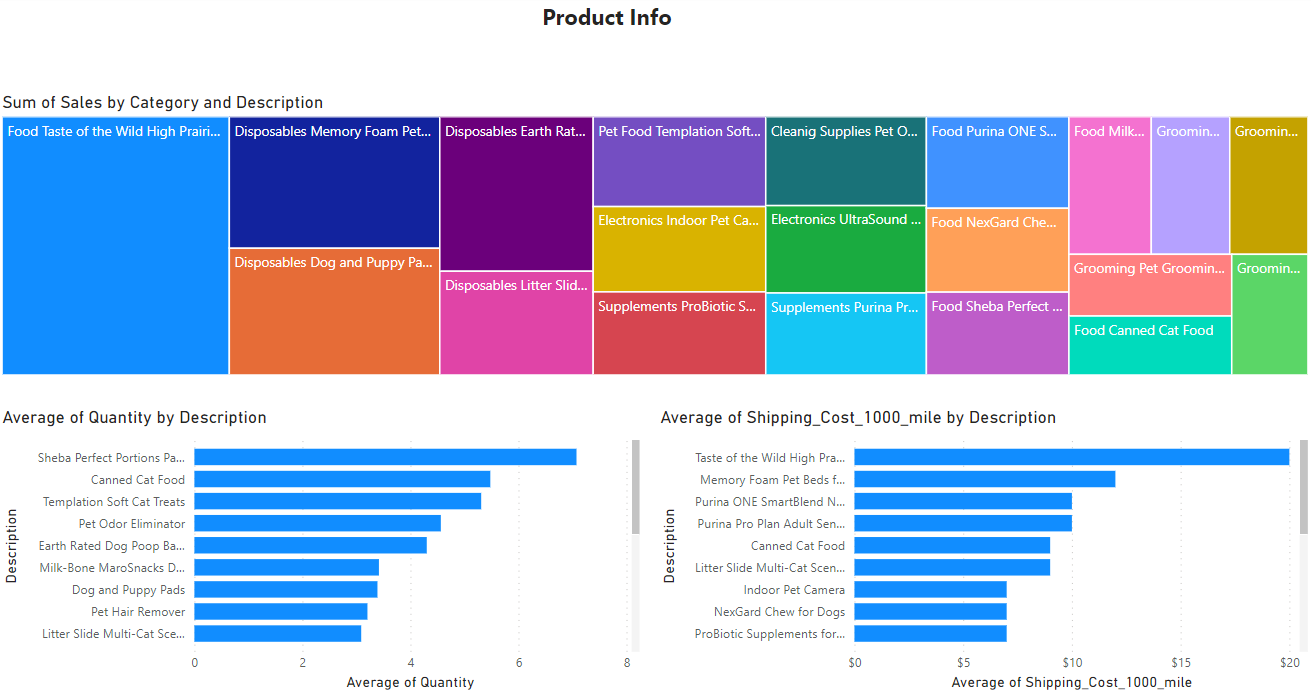

Layout of this report page (visuals, bound fields, positions):
{"tool":"powerbi","page":{"name":"Product Info","canvas":[1280,720],"ordinal":2},"visuals":[{"type":"clusteredBarChart","fields":{"Category":["Sales.Description"],"Y":["Avg(Sales.Quantity)"]},"box":[9.7,289.8,630.3,280.1],"z":0},{"type":"treemap","fields":{"Values":["Sum(Sales.Sales)"],"Group":["Products.Category","Sales.Description"]},"box":[9.7,0,1270.3,280.1],"z":1000},{"type":"clusteredBarChart","fields":{"Y":["Avg(Products.Shipping_Cost_1000_mile)"],"Category":["Products.Description"]},"box":[640,289.8,640,280.1],"z":2000}]}

Visuals, with their boxes on the page's 1280x720 design canvas (x1, y1, x2, y2). These are canvas units, not pixel positions in the 1311x700 screenshot, which may show the page scaled, cropped or inside an application window:
clusteredBarChart - Sales.Description x Avg(Sales.Quantity): <box>10,290,640,570</box>
treemap - Sum(Sales.Sales) x Products.Category: <box>10,0,1280,280</box>
clusteredBarChart - Avg(Products.Shipping_Cost_1000_mile) x Products.Description: <box>640,290,1280,570</box>
